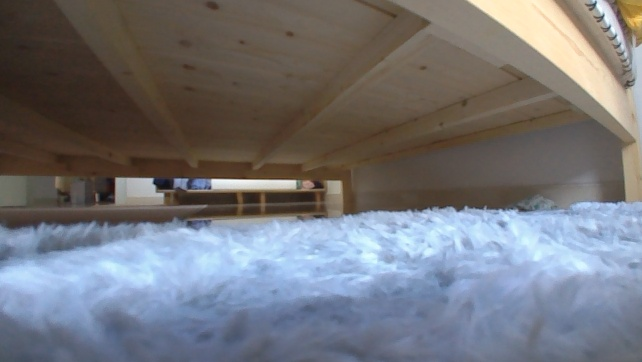blanket: (0, 200, 641, 361)
